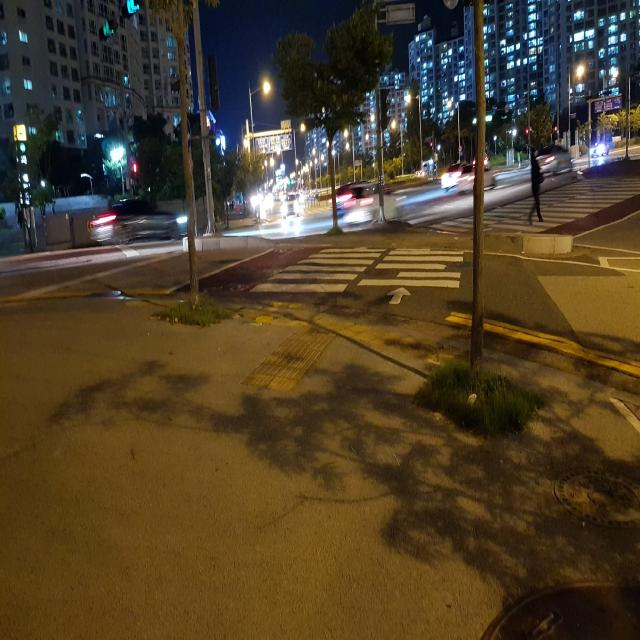빨간불: (132, 164, 139, 189)
횡단보도: (248, 247, 465, 305)
